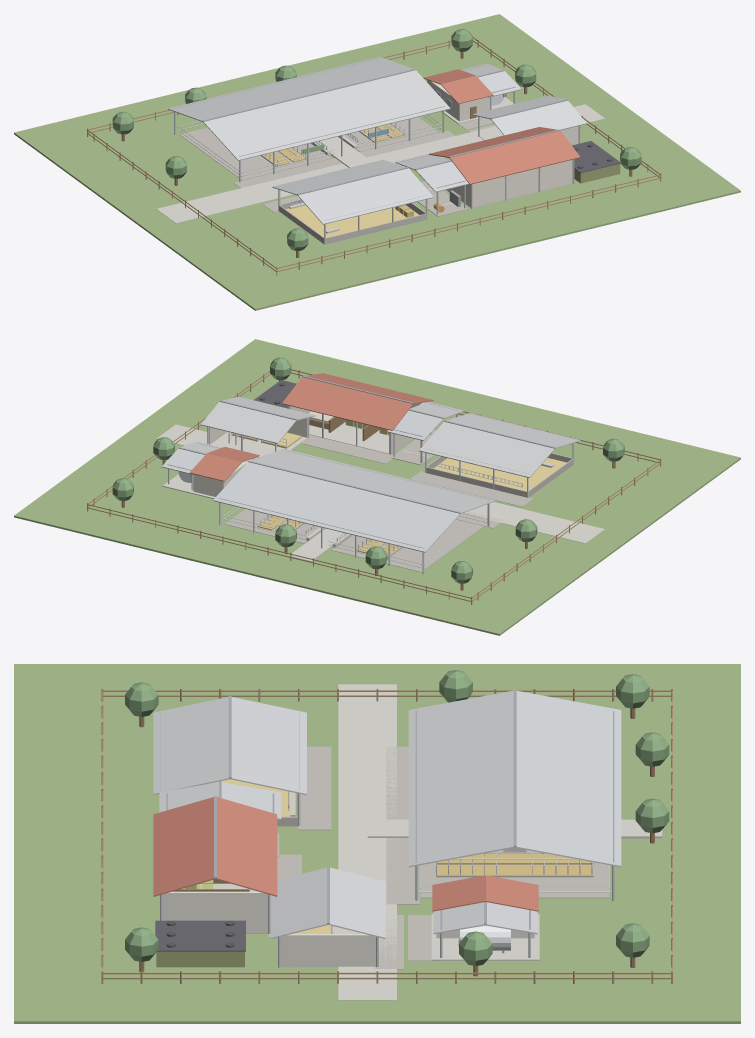
The model's file is farm.glb.
3 renders of one model, top to bottom at view 1: azimuth 30°, elevation 25°; view 2: azimuth 150°, elevation 25°; view 3: azimuth 270°, elevation 25°, orthographic. The views are drawn at different scales.
Visible parts, largest first — view 1: Ground, Roofs, Props, LactationBarn, FeedStore, DryBarn, OfficeAndTank, MachineYard; view 2: Ground, Roofs, Props, LactationBarn, DryBarn, FeedStore, Clinic, OfficeAndTank, MachineYard; view 3: Ground, Roofs, Props, LactationBarn, FeedStore, Clinic, OfficeAndTank, DryBarn.
Part boxes in pixels (bbox=[...]): Ground: bbox=[14, 14, 740, 310]; Roofs: bbox=[168, 57, 586, 224]; Props: bbox=[87, 29, 661, 275]; LactationBarn: bbox=[174, 58, 444, 182]; FeedStore: bbox=[446, 141, 620, 208]; DryBarn: bbox=[278, 162, 427, 244]; OfficeAndTank: bbox=[427, 65, 515, 123]; MachineYard: bbox=[401, 155, 468, 216]; Ground: bbox=[14, 339, 740, 635]; Roofs: bbox=[161, 373, 580, 552]; Props: bbox=[87, 357, 661, 605]; LactationBarn: bbox=[219, 450, 489, 574]; DryBarn: bbox=[425, 414, 574, 497]; FeedStore: bbox=[253, 380, 425, 454]; Clinic: bbox=[207, 418, 309, 457]; OfficeAndTank: bbox=[162, 442, 256, 498]; MachineYard: bbox=[391, 403, 457, 465]; Ground: bbox=[14, 664, 740, 1023]; Roofs: bbox=[153, 689, 621, 938]; Props: bbox=[101, 670, 672, 983]; LactationBarn: bbox=[367, 711, 662, 901]; FeedStore: bbox=[155, 879, 270, 967]; Clinic: bbox=[278, 925, 378, 967]; OfficeAndTank: bbox=[431, 910, 539, 960]; DryBarn: bbox=[160, 714, 300, 826].
Bounding box in the file's own units: 86 × 7.04 × 74.
